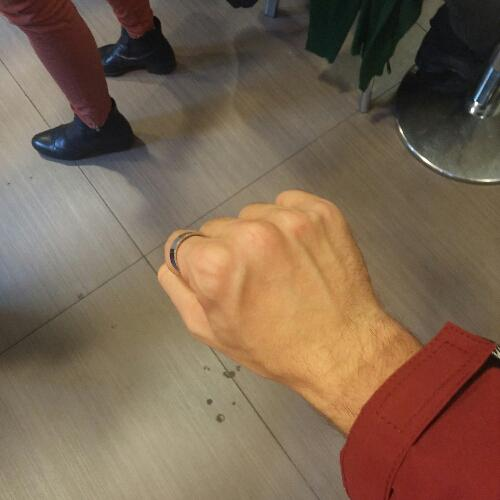rock: (148, 182, 390, 377)
